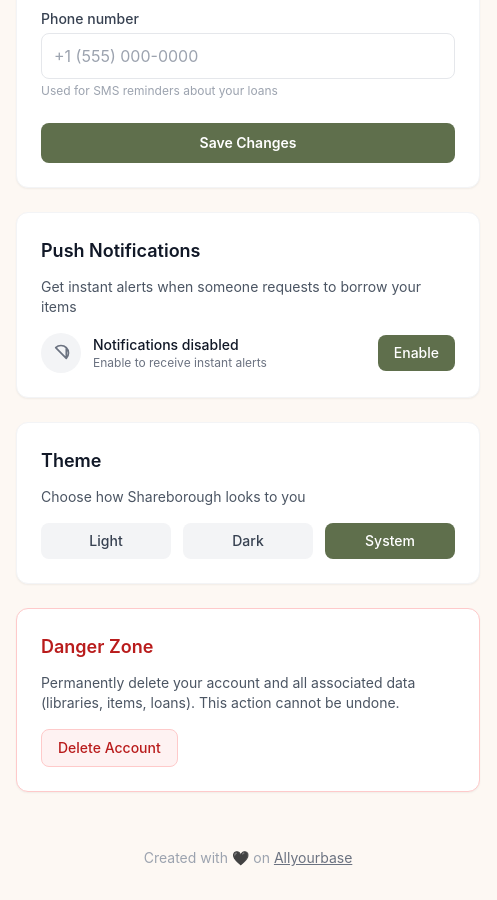
Settings › Cancel button hides confirmation form
The width and height of the screenshot is (497, 900).
(page scrolled)
expect the heading "Danger Zone" is shown: met, box [41, 636, 153, 657]
Click the button "Delete Account". click: (109, 748)
box: [41, 729, 178, 767]
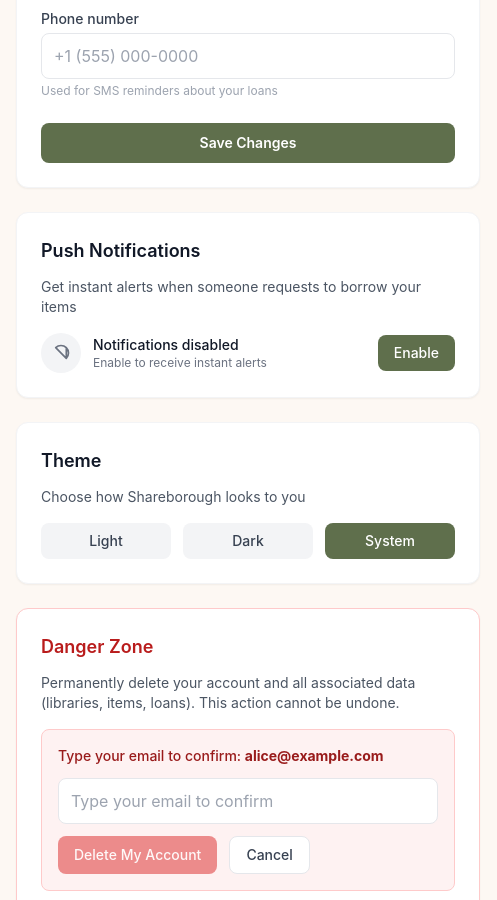
expect the field named "Confirm email for deletion" is shown: met, box [58, 778, 438, 824]
Click the button "Cancel". click: (270, 855)
box: [229, 836, 310, 874]
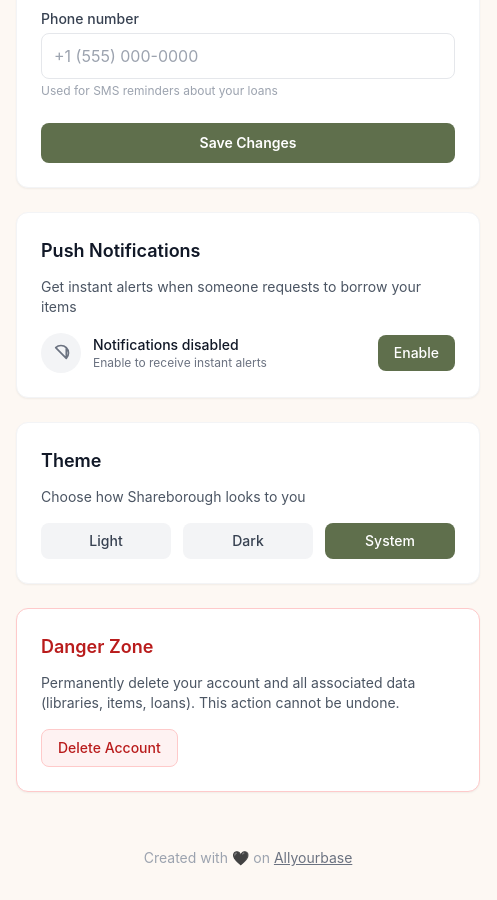
expect the button "Delete Account" is shown: met, box [41, 729, 178, 767]
